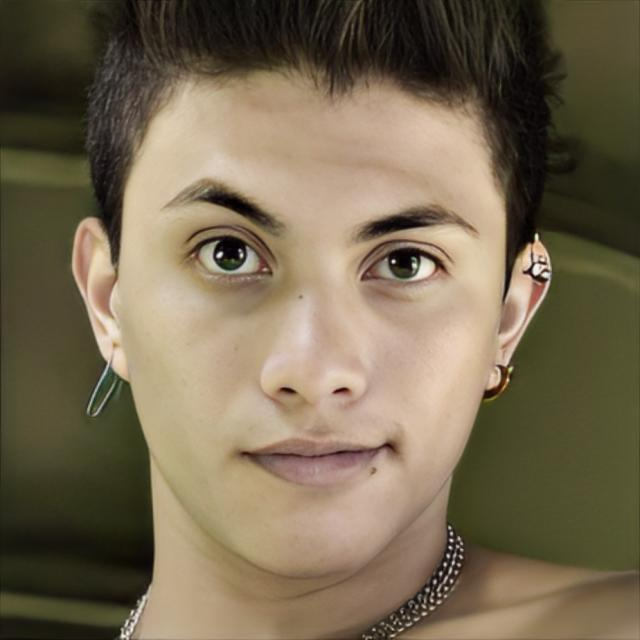content: (119, 53, 508, 576)
